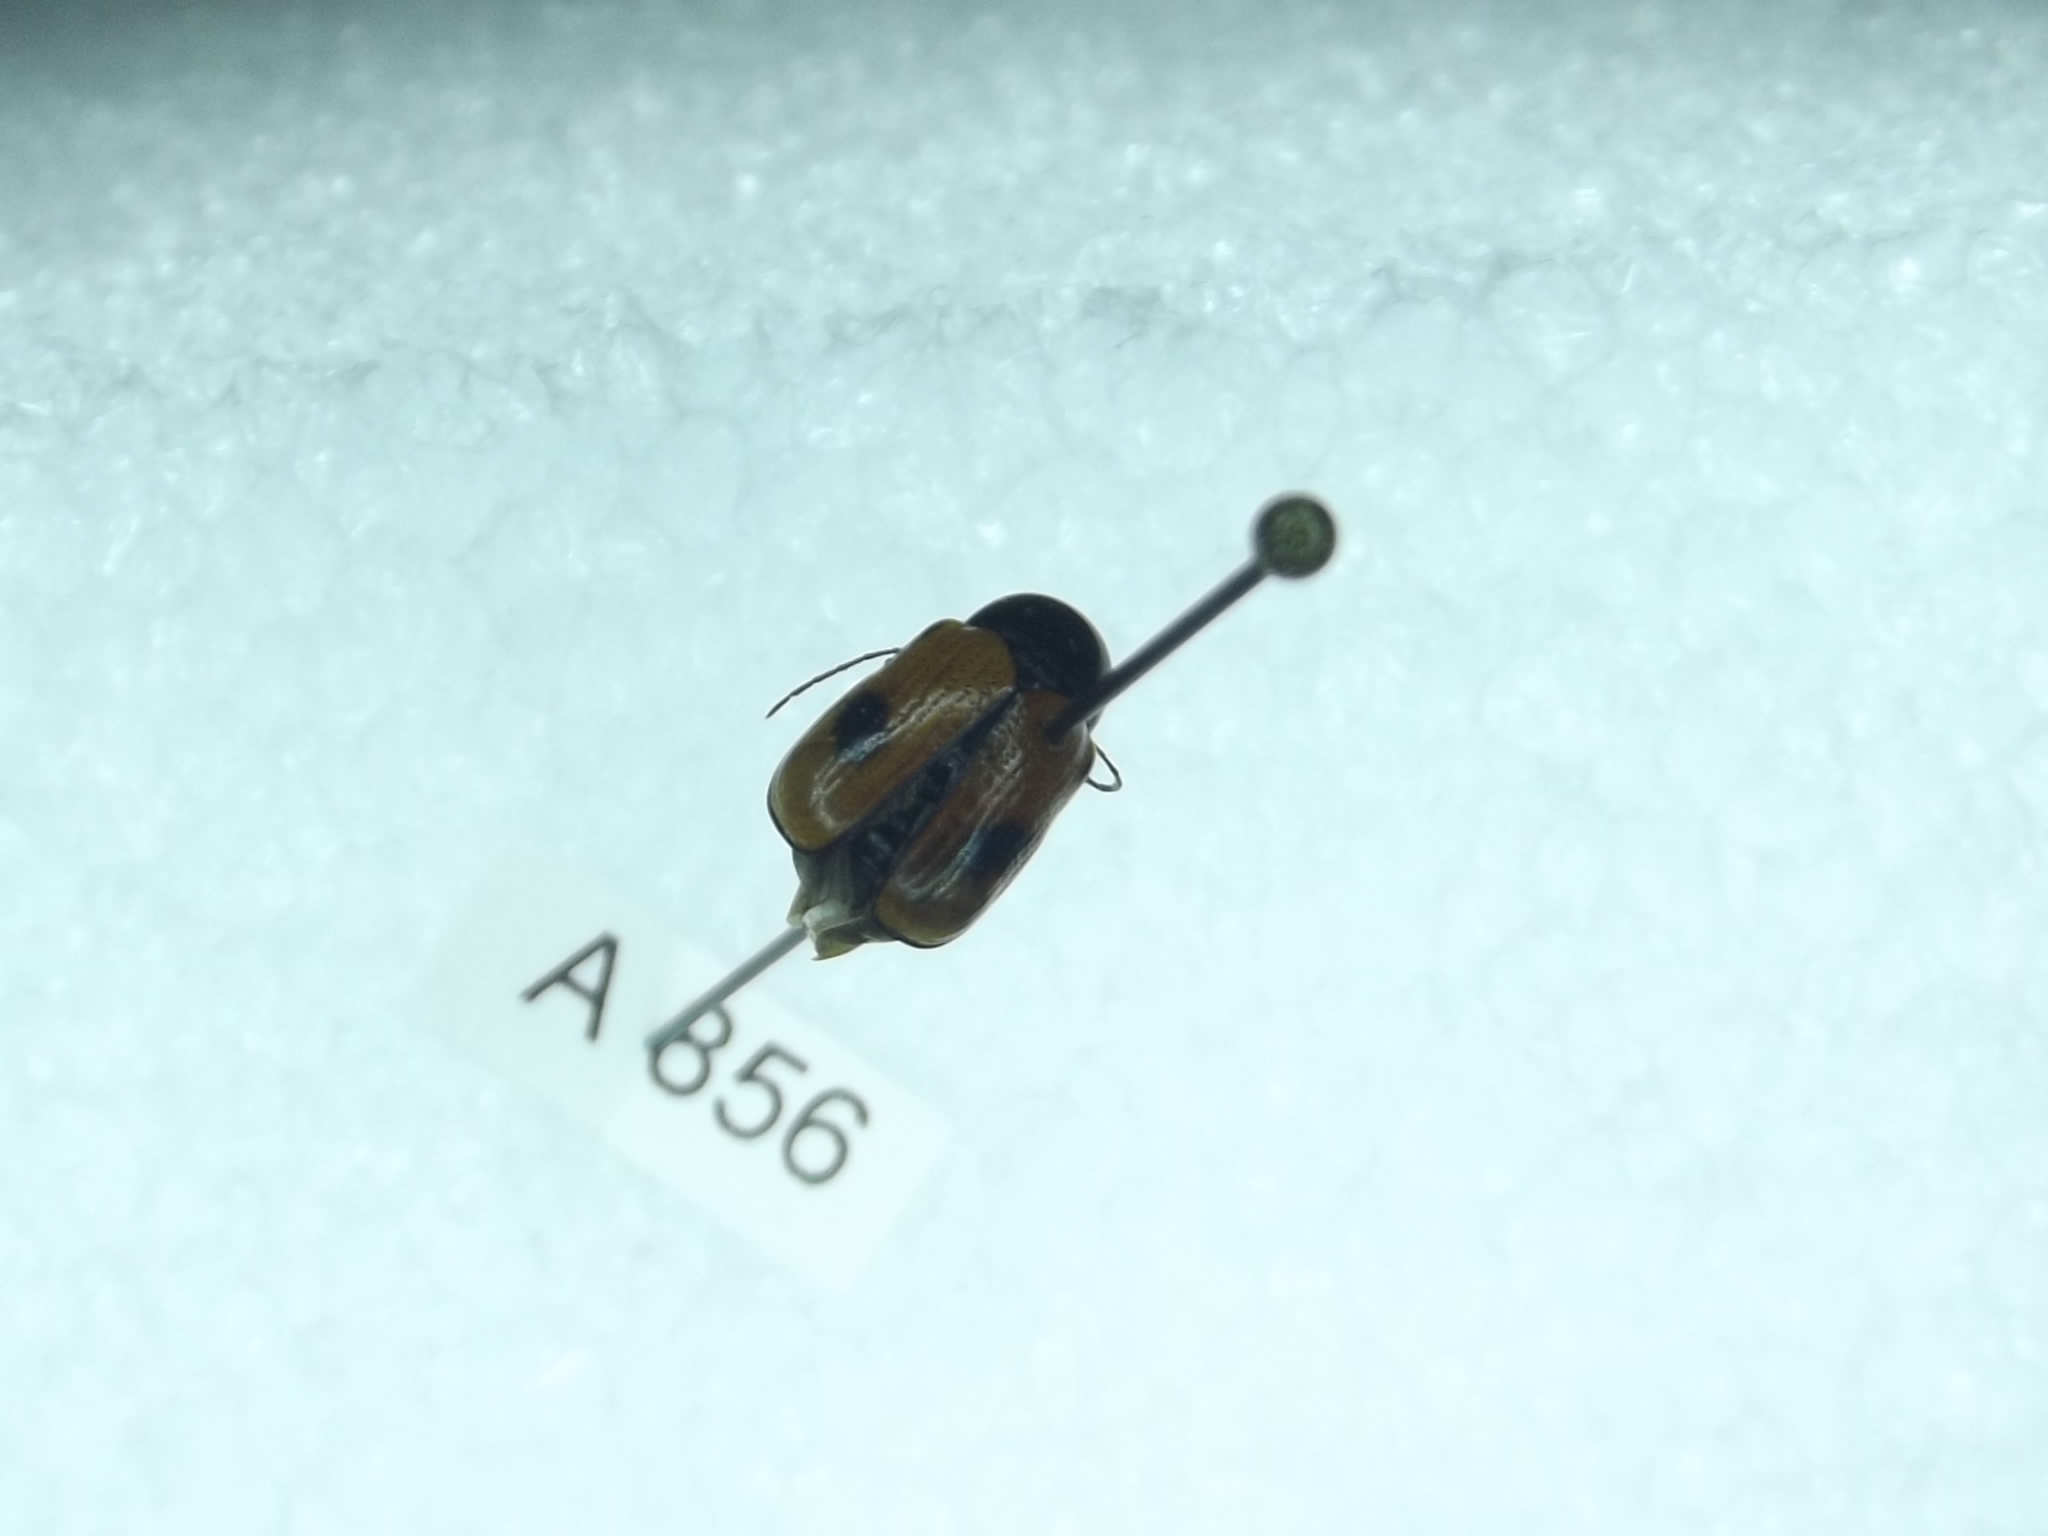Cryptocephalus_bipunctatus: (748, 579, 1143, 986)
